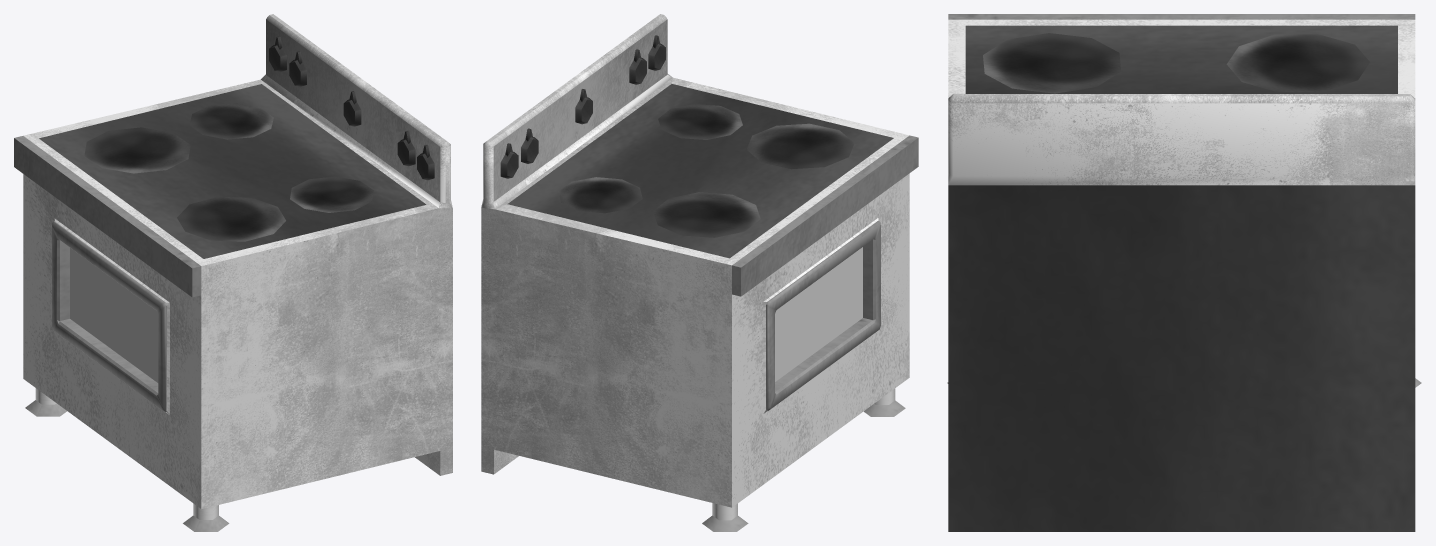
File: KitchenStove.fbx
The picture shows the model from 3 angles, left to right: view 1: azimuth 30°, elevation 25°; view 2: azimuth 150°, elevation 25°; view 3: azimuth 270°, elevation 25°; orthographic projection. The views are drawn at different scales.
Parts seen in each view (by area): view 1: Cube.020; view 2: Cube.020; view 3: Cube.020.
Boxes of the visible parts, x1,y1,x2,y2 form: Cube.020: (14, 14, 452, 531); Cube.020: (481, 14, 918, 531); Cube.020: (947, 14, 1421, 531).
Size of the model in its own units: 63.15 by 76.87 by 76.05.
